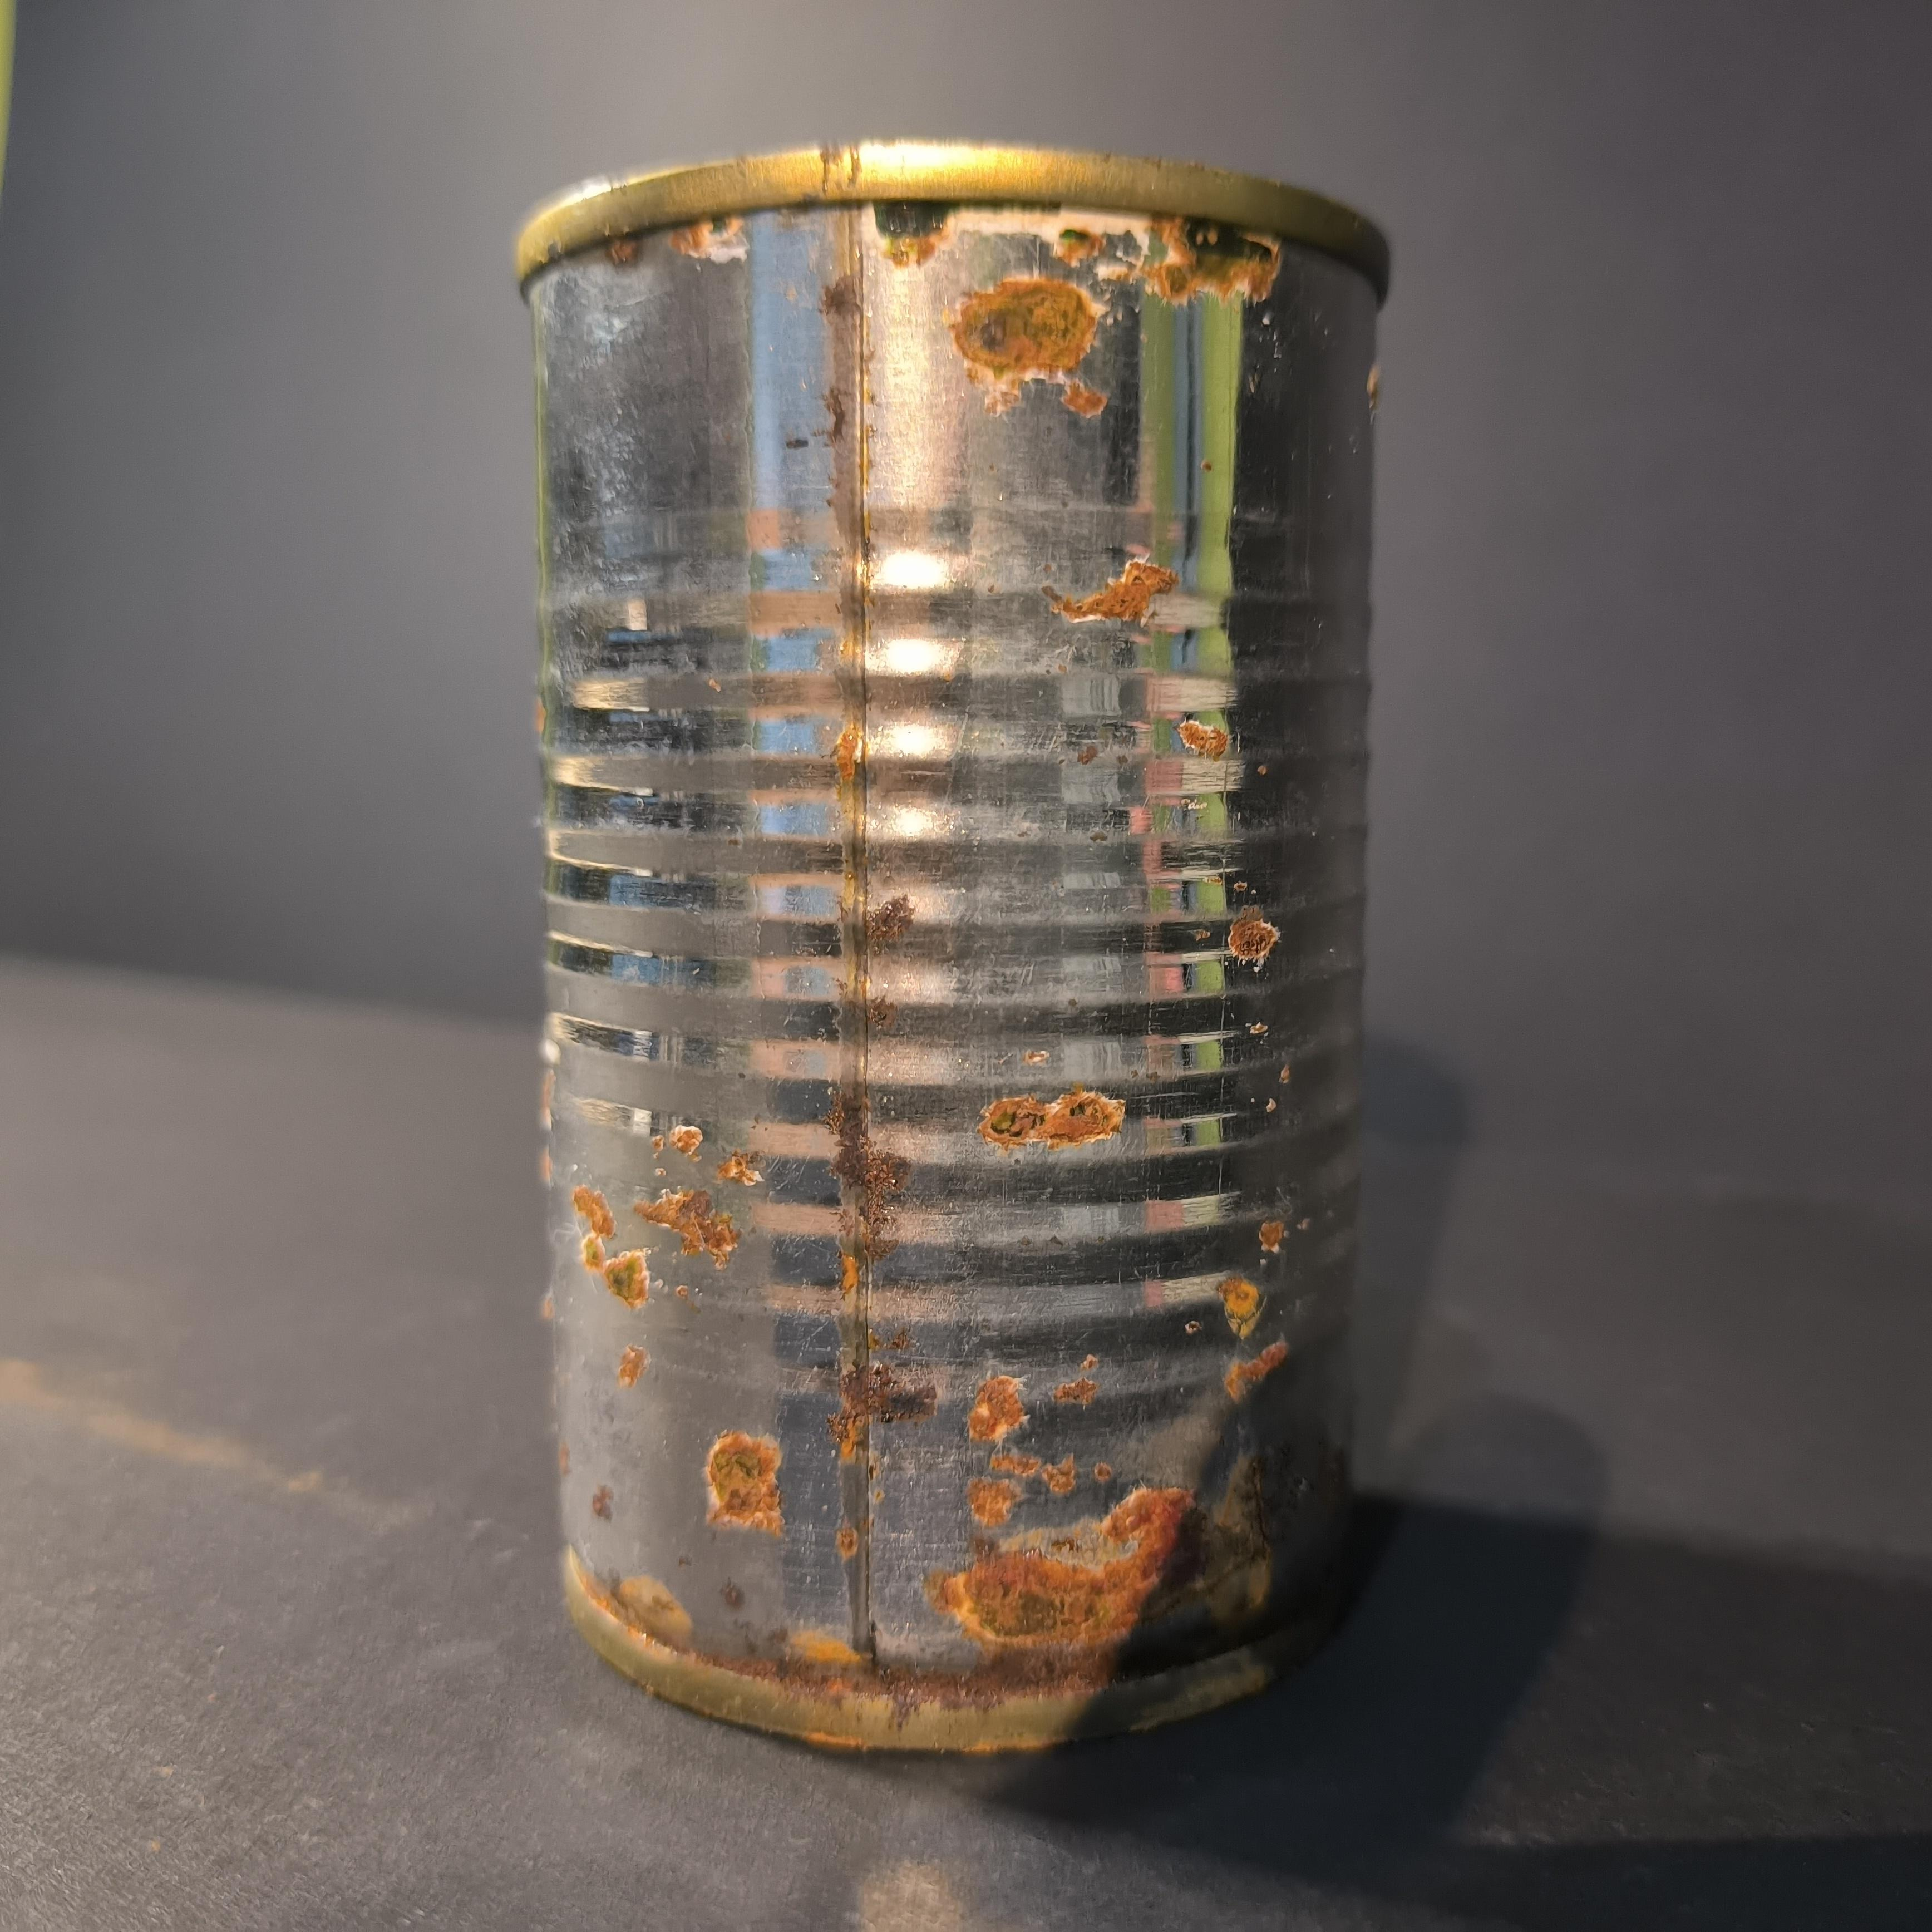Rusted: (492, 120, 1396, 1767)
